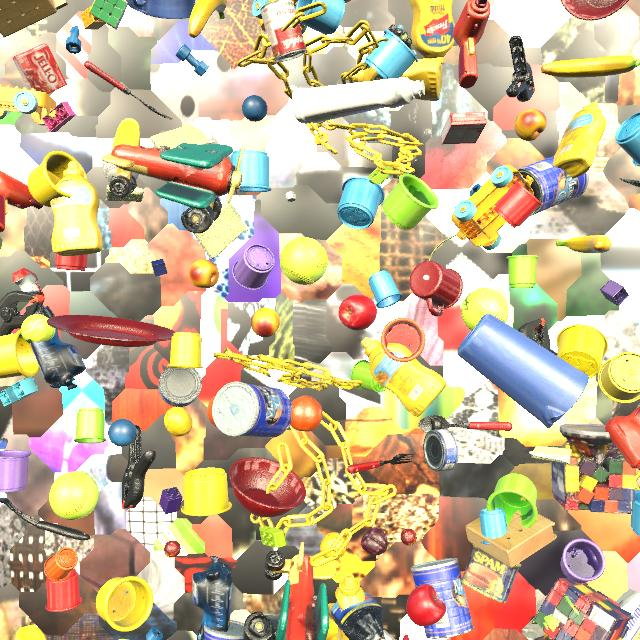ycb_002_master_chef_can: (411, 558, 474, 639), (212, 382, 292, 438), (516, 156, 589, 216), (204, 620, 244, 640)
ycb_004_sugar_box: (615, 589, 640, 640), (383, 629, 396, 640)
ycb_005_tomato_soup_can: (261, 0, 307, 62)
ycb_006_mustard_bottle: (361, 337, 447, 417), (50, 161, 103, 256), (553, 102, 607, 179), (350, 59, 442, 101), (409, 0, 455, 64), (335, 573, 365, 640), (15, 625, 46, 640), (343, 0, 351, 3)
ycb_007_tuna_fish_can: (158, 367, 202, 407), (423, 429, 459, 471)
ycb_009_gelatin_box: (13, 43, 67, 94), (441, 112, 486, 144)
ycb_010_potted_meat_can: (461, 545, 522, 603)
ycb_011_banana: (541, 56, 640, 78), (188, 0, 227, 38), (556, 235, 612, 253)
ycb_013_apple: (406, 584, 446, 626), (338, 295, 377, 331)
ycb_014_lemon: (164, 407, 193, 437), (320, 532, 346, 561)
ycb_015_peach: (514, 109, 547, 141), (189, 259, 219, 288), (251, 308, 280, 337)
ycb_017_orange: (290, 396, 323, 431), (207, 396, 217, 427)
ycb_018_plum: (361, 527, 388, 556)
